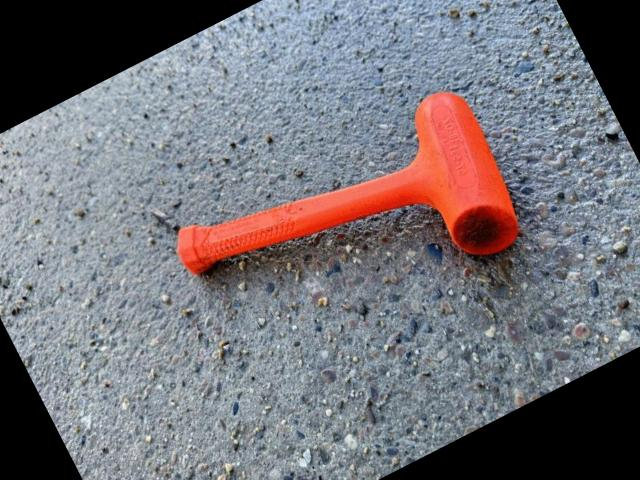hammer: (165, 82, 534, 384)
